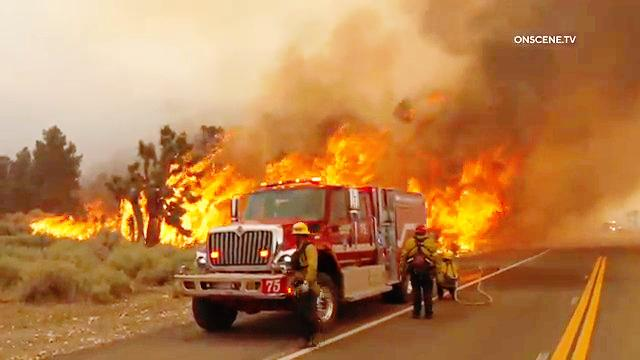fire: (104, 126, 237, 237), (253, 111, 407, 192), (430, 141, 518, 251), (32, 200, 104, 249)
smoke: (378, 0, 508, 81), (517, 67, 629, 161)
